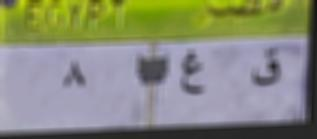8: (57, 60, 98, 94)
ghayn: (174, 46, 213, 100)
qaaf: (249, 46, 286, 94)
